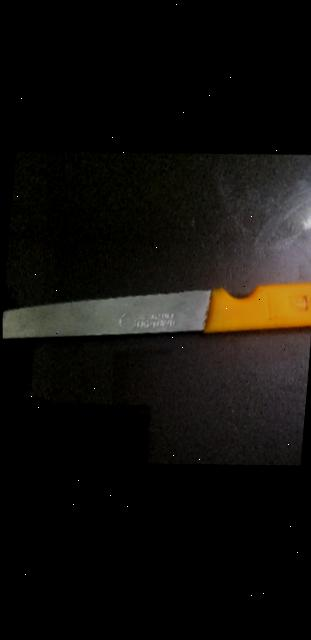long knife: (2, 252, 311, 392)
